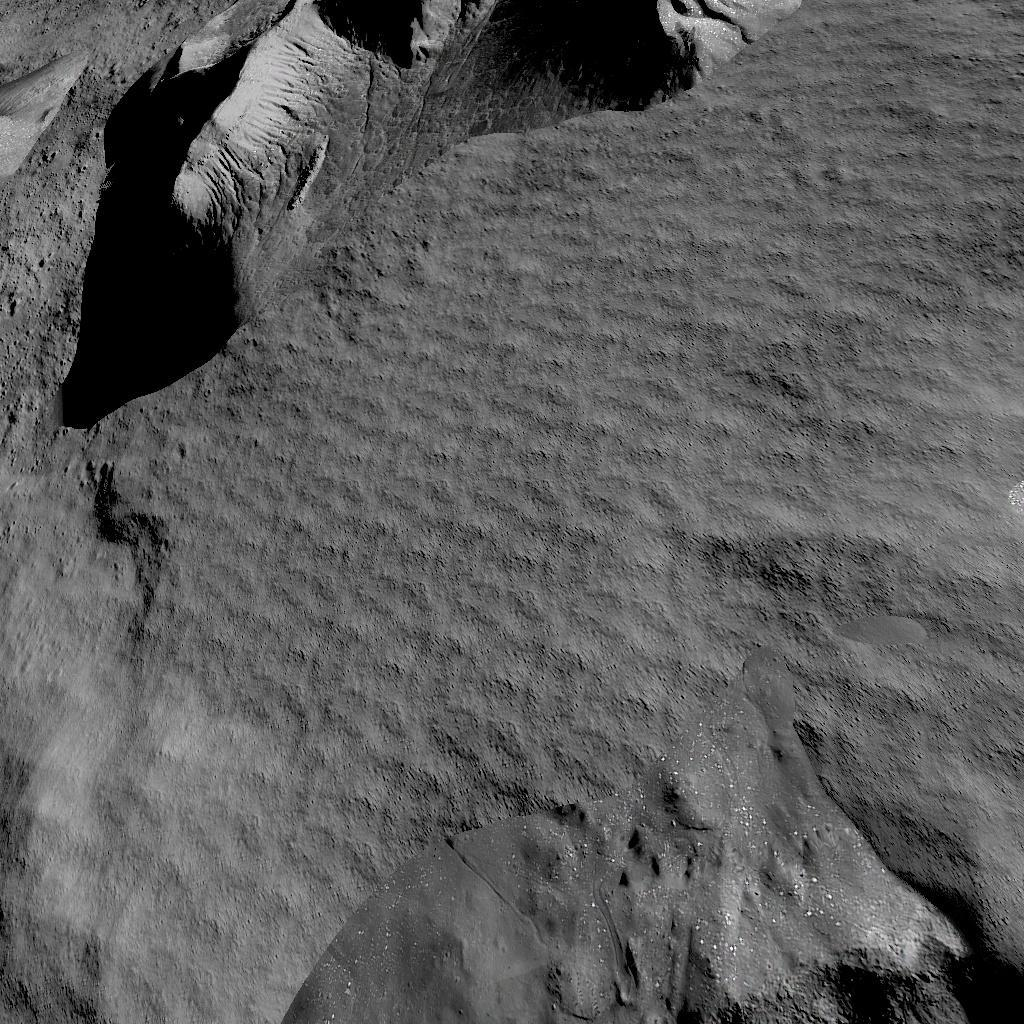Boulders: (54, 0, 798, 428)
Crater: (288, 802, 1024, 1024)
Plan surface: (0, 440, 1024, 790), (813, 0, 1024, 425), (0, 802, 276, 1024)
